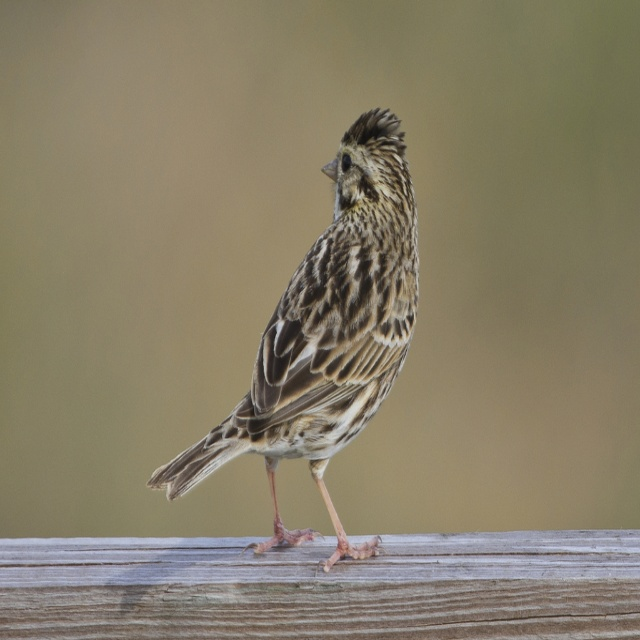Sparrow: (148, 111, 419, 571)
